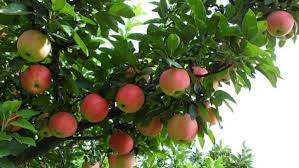1: (159, 65, 191, 97), (19, 65, 52, 94), (169, 111, 198, 144), (80, 92, 110, 122), (47, 109, 77, 137), (266, 9, 295, 37), (109, 130, 135, 154), (139, 114, 162, 137), (109, 154, 139, 167), (203, 104, 220, 126), (193, 64, 210, 77), (81, 160, 102, 168)
2: (16, 29, 53, 63)
Apple: (116, 84, 146, 112)
